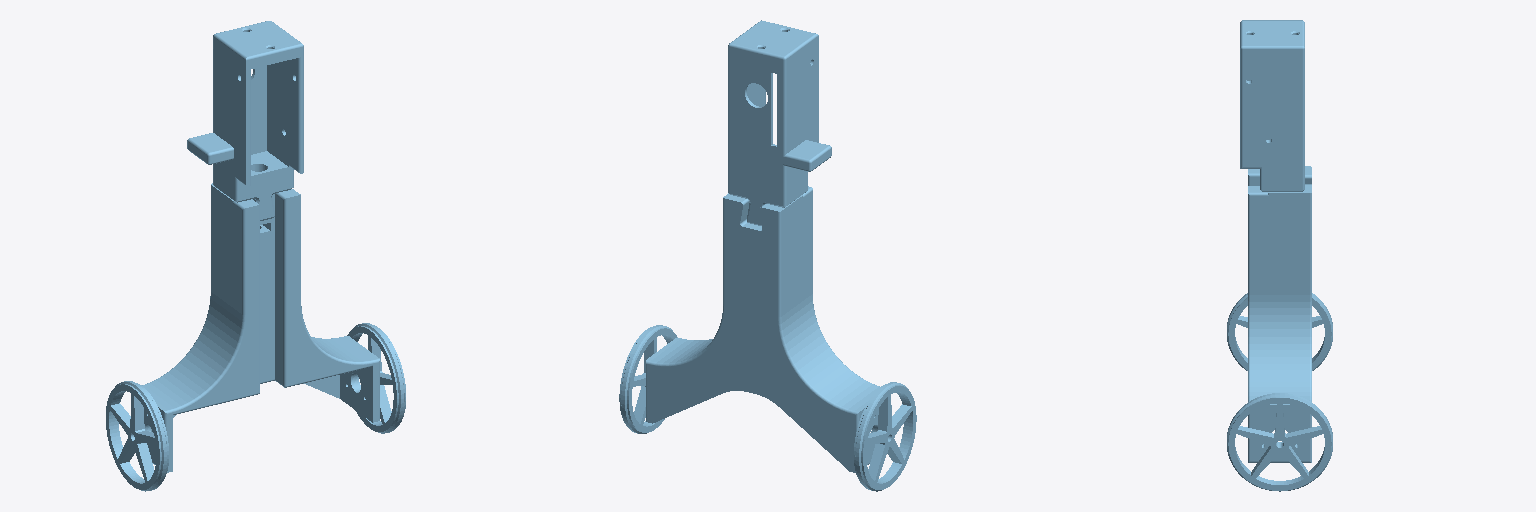
The robot description file, URDF, robot "balncer":
<robot name="balncer">
   <link name="base_link">
   </link>
   <joint name="base_link_to_base" type="fixed">
      <parent link="base_link"/>
      <child link="bottom_part" />
      <origin rpy="0.0 0 0" xyz="0 0 0.25"/>
   </joint>
   <link name="bottom_part">
   <visual>
      <origin xyz="0 0 0" rpy="0 -0 0" />
      <geometry>
         <mesh filename="package://balancer_description/meshes/bottom_part.stl"/>
      </geometry>
      <material name="bottom_part_material">
         <color rgba="0.615686 0.811765 0.929412 1.0"/>
      </material>
   </visual>
   <collision>
      <origin xyz="0 0 0" rpy="0 -0 0" />
      <geometry>
         <mesh filename="package://balancer_description/meshes/bottom_part.stl"/>
      </geometry>
      <material name="bottom_part_material">
         <color rgba="0.615686 0.811765 0.929412 1.0"/>
      </material>
   </collision>
   <inertial>
      <origin xyz="6.06632e-08 0.00185444 -0.0872894" rpy="0 0 0"/>
      <mass value="0.597423" />
      <inertia ixx="0.00157285" ixy="-8.14813e-10"  ixz="2.4105e-09" iyy="0.0021969" iyz="-2.0712e-06" izz="0.000864406" />
   </inertial>
   </link>
   <joint name="wheel" type="revolute">
      <origin xyz="-0.097 3.46945e-18 -0.1625" rpy="1.5708 -0 1.5708" />
      <parent link="bottom_part" />
      <child link="wheel" />
      <axis xyz="0 0 1"/>
      <limit effort="1" velocity="20" lower="-6.28319" upper="6.28319"/>
      <joint_properties friction="0.0"/>
   </joint>
   <link name="wheel">
   <visual>
      <origin xyz="-1.90117e-19 0 -0.004" rpy="-1.5708 -1.5708 0" />
      <geometry>
         <mesh filename="package://balancer_description/meshes/wheel.stl"/>
      </geometry>
      <material name="wheel_material">
         <color rgba="0.615686 0.811765 0.929412 1.0"/>
      </material>
   </visual>
   <collision>
      <origin xyz="-1.90117e-19 0 -0.004" rpy="-1.5708 -1.5708 0" />
      <geometry>
         <mesh filename="package://balancer_description/meshes/wheel.stl"/>
      </geometry>
      <material name="wheel_material">
         <color rgba="0.615686 0.811765 0.929412 1.0"/>
      </material>
   </collision>
   <inertial>
      <origin xyz="-2.30859e-18 1.31473e-06 -0.004" rpy="0 0 0"/>
      <mass value="0.0231244" />
      <inertia ixx="1.18448e-05" ixy="4.43851e-52"  ixz="-7.29994e-38" iyy="2.3458e-05" iyz="-2.83325e-68" izz="1.18449e-05" />
   </inertial>
   </link>
   <joint name="wheel_2" type="revolute">
      <origin xyz="0.105 3.46945e-18 -0.1625" rpy="1.5708 -3.05459e-48 1.5708" />
      <parent link="bottom_part" />
      <child link="wheel_2" />
      <axis xyz="0 0 1"/>
      <limit effort="1" velocity="20" lower="-6.28319" upper="6.28319"/>
      <joint_properties friction="0.0"/>
   </joint>
   <link name="wheel_2">
   <visual>
      <origin xyz="-1.90117e-19 0 -0.004" rpy="-1.5708 -1.5708 0" />
      <geometry>
         <mesh filename="package://balancer_description/meshes/wheel.stl"/>
      </geometry>
      <material name="wheel_material">
         <color rgba="0.615686 0.811765 0.929412 1.0"/>
      </material>
   </visual>
   <collision>
      <origin xyz="-1.90117e-19 0 -0.004" rpy="-1.5708 -1.5708 0" />
      <geometry>
         <mesh filename="package://balancer_description/meshes/wheel.stl"/>
      </geometry>
      <material name="wheel_material">
         <color rgba="0.615686 0.811765 0.929412 1.0"/>
      </material>
   </collision>
   <inertial>
      <origin xyz="-2.30859e-18 1.31473e-06 -0.004" rpy="0 0 0"/>
      <mass value="0.0231244" />
      <inertia ixx="1.18448e-05" ixy="1.7582e-69"  ixz="0" iyy="2.3458e-05" iyz="0" izz="1.18449e-05" />
   </inertial>
   </link>
   <link name="top_part">
   <visual>
      <origin xyz="0.0159553 0.0075 0.015" rpy="3.14159 -1.34133e-16 0" />
      <geometry>
         <mesh filename="package://balancer_description/meshes/top_part.stl"/>
      </geometry>
      <material name="top_part_material">
         <color rgba="0.615686 0.811765 0.929412 1.0"/>
      </material>
   </visual>
   <collision>
      <origin xyz="0.0159553 0.0075 0.015" rpy="3.14159 -1.34133e-16 0" />
      <geometry>
         <mesh filename="package://balancer_description/meshes/top_part.stl"/>
      </geometry>
      <material name="top_part_material">
         <color rgba="0.615686 0.811765 0.929412 1.0"/>
      </material>
   </collision>
   <inertial>
      <origin xyz="0.0140618 0.00252646 -0.0562488" rpy="0 0 0"/>
      <mass value="0.159859" />
      <inertia ixx="0.000353364" ixy="-7.57118e-07"  ixz="5.53838e-06" iyy="0.000380108" iyz="2.08197e-05" izz="8.90978e-05" />
   </inertial>
   </link>
   <joint name="topfix" type="fixed">
      <origin xyz="-0.017061 0.00182142 0.015" rpy="3.14159 -0 0" />
      <parent link="bottom_part" />
      <child link="top_part" />
      <axis xyz="0 0 1"/>
      <limit effort="1" velocity="20" />
      <joint_properties friction="0.0"/>
   </joint>
</robot>

--- Render facts (derived) ---
Views: 3 orthographic renders of the robot side by side, from view 1: azimuth 30°, elevation 25°; view 2: azimuth 150°, elevation 25°; view 3: azimuth 270°, elevation 25°.
Robot: balncer — 5 links, 4 joints (2 revolute, 2 fixed); root link base_link; default pose: every joint at zero.
Visible links, largest first — view 1: bottom_part, top_part, wheel, wheel_2; view 2: bottom_part, top_part, wheel, wheel_2; view 3: bottom_part, top_part, wheel_2, wheel.
Link boxes in pixels (x1=…): bottom_part: x1=142, y1=183, x2=379, y2=472; top_part: x1=187, y1=21, x2=303, y2=220; wheel: x1=106, y1=381, x2=168, y2=491; wheel_2: x1=347, y1=323, x2=405, y2=433; bottom_part: x1=646, y1=186, x2=879, y2=472; top_part: x1=728, y1=20, x2=831, y2=225; wheel: x1=854, y1=382, x2=916, y2=491; wheel_2: x1=619, y1=325, x2=676, y2=433; bottom_part: x1=1248, y1=166, x2=1311, y2=462; top_part: x1=1240, y1=20, x2=1304, y2=191; wheel_2: x1=1227, y1=393, x2=1332, y2=491; wheel: x1=1227, y1=293, x2=1332, y2=370.
Size in the robot's own frame: 0.21 by 0.083 by 0.344 metres.
Meshes: 3 distinct files referenced, 4 mesh visuals loaded (3 binary STL).